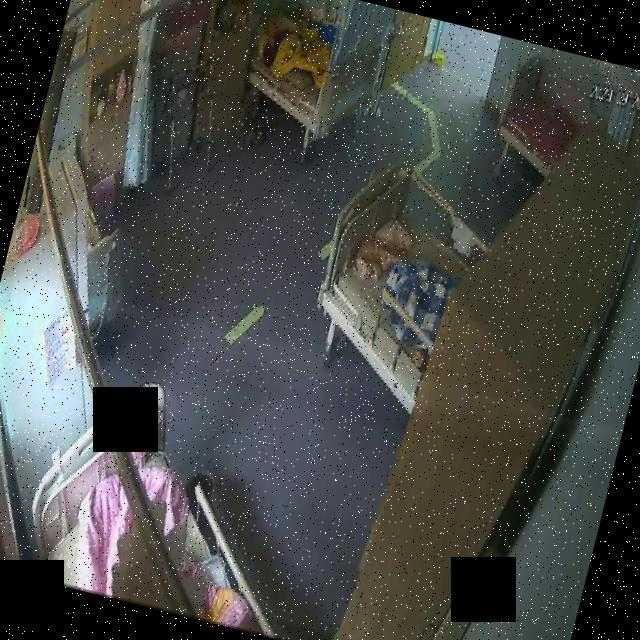bed: (15, 362, 293, 630), (294, 148, 482, 416), (233, 0, 387, 148), (480, 47, 593, 172)
